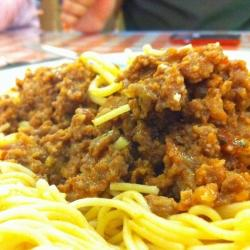bolonese_pasta: (10, 61, 246, 250)
